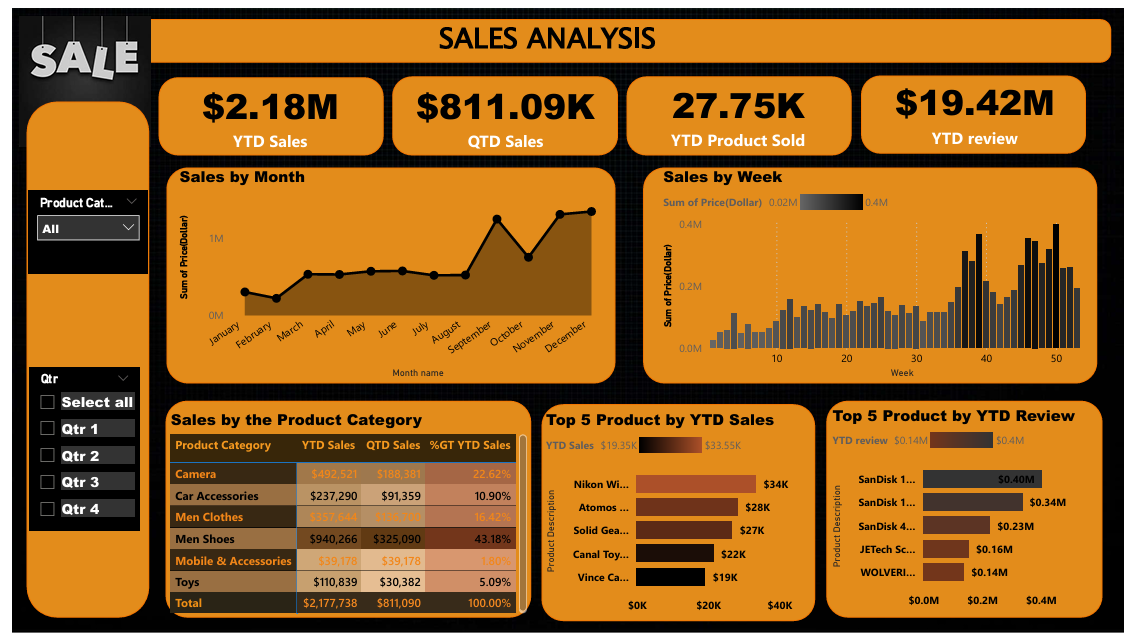

This screenshot's page, from the dashboard's own definition file:
{"tool":"powerbi","page":{"name":"Page 1","canvas":[1280,720],"ordinal":0},"visuals":[{"type":"shape","box":[15.1,12.3,1250.1,49.4],"z":0},{"type":"image","box":[0,3.6,166.5,160.5],"z":1000},{"type":"shape","box":[437.5,78.2,259.3,90.6],"z":2000},{"type":"textbox","box":[485.8,5.5,308.7,70],"z":3000},{"type":"shape","box":[15.7,107.4,141.2,594.8],"z":4000},{"type":"shape","box":[167.7,78.8,259.3,90.6],"z":5000},{"type":"card","fields":{"Values":["Amazon_Data.Year to date Sales"]},"box":[166,79.6,260.7,87.8],"z":6000},{"type":"card","fields":{"Values":["Amazon_Data.QTD Sales"]},"box":[437.7,79.6,259.3,87.8],"z":7000},{"type":"shape","box":[706.7,78.2,259.3,90.6],"z":8000},{"type":"shape","box":[977,76.8,259.3,90.6],"z":9000},{"type":"card","fields":{"Values":["Amazon_Data.YTD Product Sold"]},"box":[705.3,78.2,260.7,87.8],"z":10000},{"type":"card","fields":{"Values":["Amazon_Data.YTD review"]},"box":[978.4,75.5,259.3,87.8],"z":11000},{"type":"shape","box":[177,182.5,517.3,249.7],"z":12000},{"type":"areaChart","title":"Sales by Month","fields":{"Category":["Date Table.Month name"],"Y":["Sum(Amazon_Data.Price(Dollar))"]},"box":[186.6,181.1,499.5,249.7],"z":13000},{"type":"shape","box":[725.9,182.5,522.8,249.7],"z":14000},{"type":"columnChart","title":"Sales by Week","fields":{"Y":["Sum(Amazon_Data.Price(Dollar))"],"Category":["Date Table.Week"]},"box":[743.7,181.1,510.5,249.7],"z":15000},{"type":"shape","box":[176.1,452.4,421,249.7],"z":16000},{"type":"shape","box":[937.4,452.4,317.3,249.7],"z":17000},{"type":"pivotTable","title":"Sales by the Product Category","fields":{"Rows":["Amazon_Data.Product Category"],"Values":["Amazon_Data.YTD Sales1","Amazon_Data.QTD Sales","Amazon_Data.YTD Sales"]},"box":[177.3,460.9,419.8,241.3],"z":18000},{"type":"shape","box":[609.3,456,314.9,249.7],"z":19000},{"type":"clusteredBarChart","title":"Top 5 Product by YTD Sales","fields":{"Category":["Amazon_Data.Product Description"],"Y":["Amazon_Data.YTD Sales"]},"box":[609.3,460.9,314.9,244.9],"z":20000},{"type":"clusteredBarChart","title":"Top 5 Product by YTD Review","fields":{"Category":["Amazon_Data.Product Description"],"Y":["Amazon_Data.YTD review"]},"box":[938.6,455.6,317,244.3],"z":21000},{"type":"slicer","fields":{"Values":["Amazon_Data.Product Category"]},"box":[18.1,209.9,137.5,96.5],"z":22000},{"type":"slicer","fields":{"Values":["Date Table.Qtr"]},"box":[19.3,413.8,126.7,189.4],"z":23000}]}

Visuals, with their boxes in screenshot pixels (x1, y1, x2, y2), scaled from the page's 1280x720 canvas onto the 1135x644 screenshot:
shape: box=[13, 11, 1122, 55]
image: box=[0, 3, 148, 147]
shape: box=[388, 70, 618, 151]
textbox: box=[431, 5, 704, 68]
shape: box=[14, 96, 139, 628]
shape: box=[149, 70, 379, 152]
card - Amazon_Data.Year to date Sales: box=[147, 71, 378, 150]
card - Amazon_Data.QTD Sales: box=[388, 71, 618, 150]
shape: box=[627, 70, 857, 151]
shape: box=[866, 69, 1096, 150]
card - Amazon_Data.YTD Product Sold: box=[625, 70, 857, 148]
card - Amazon_Data.YTD review: box=[868, 68, 1097, 146]
shape: box=[157, 163, 616, 387]
"Sales by Month" areaChart: box=[165, 162, 608, 385]
shape: box=[644, 163, 1107, 387]
"Sales by Week" columnChart: box=[659, 162, 1112, 385]
shape: box=[156, 405, 529, 628]
shape: box=[831, 405, 1113, 628]
"Sales by the Product Category" pivotTable: box=[157, 412, 529, 628]
shape: box=[540, 408, 820, 631]
"Top 5 Product by YTD Sales" clusteredBarChart: box=[540, 412, 820, 631]
"Top 5 Product by YTD Review" clusteredBarChart: box=[832, 408, 1113, 626]
slicer - Amazon_Data.Product Category: box=[16, 188, 138, 274]
slicer - Date Table.Qtr: box=[17, 370, 129, 540]
